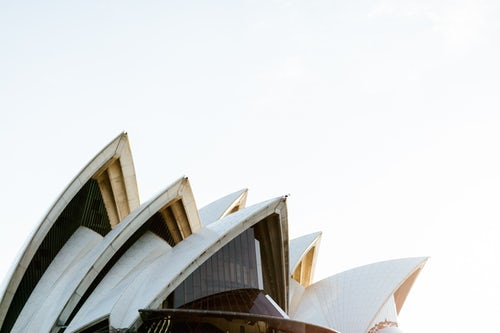opera house: (7, 116, 456, 330)
